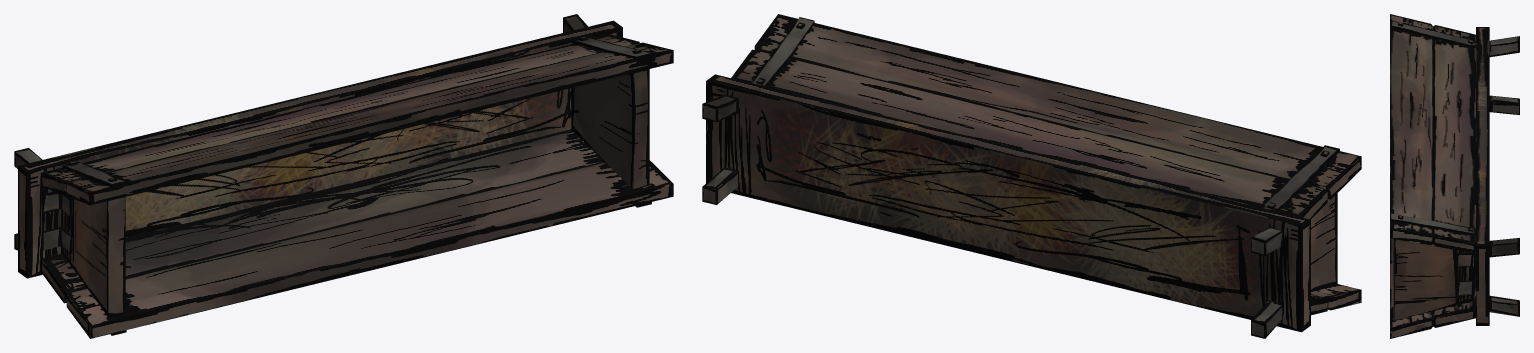
File: horse_trough.fbx
3 views of the same model, side by side, from view 1: azimuth 30°, elevation 25°; view 2: azimuth 150°, elevation 25°; view 3: azimuth 270°, elevation 25° (orthographic). The views are drawn at different scales.
Visible parts, largest first — view 1: horse_trough; view 2: horse_trough; view 3: horse_trough.
Boxes of the visible parts, x1=… form: horse_trough: x1=14, y1=14, x2=673, y2=338; horse_trough: x1=702, y1=14, x2=1361, y2=338; horse_trough: x1=1390, y1=14, x2=1519, y2=338.
Size of the model in its own units: 1177 by 285 by 294.
